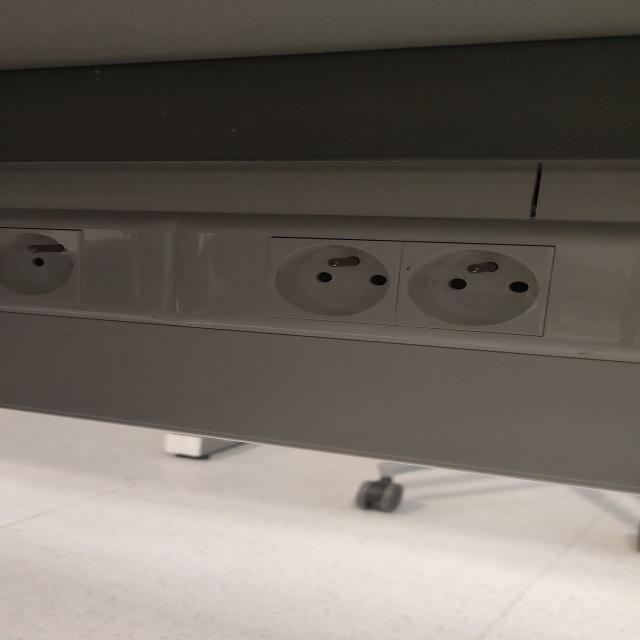house plug: (390, 239, 554, 339), (262, 237, 401, 326), (0, 226, 84, 304)
